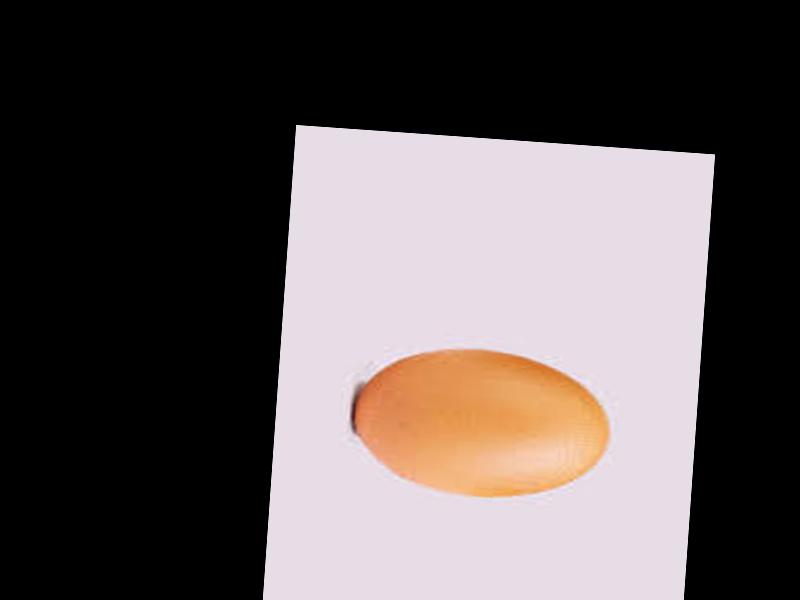Eggs: (347, 342, 618, 503)
